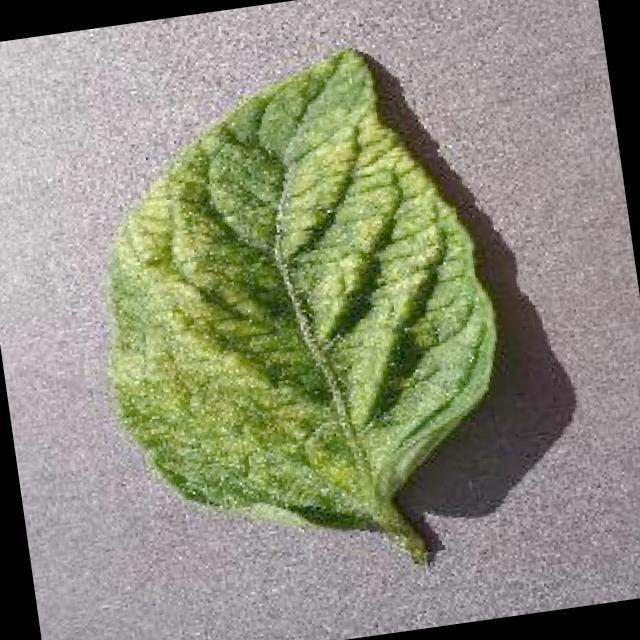Tomato spider mites leaf: (72, 30, 520, 549)
